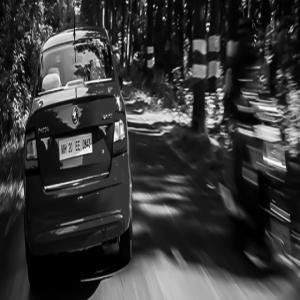Plate: (59, 132, 92, 160)
